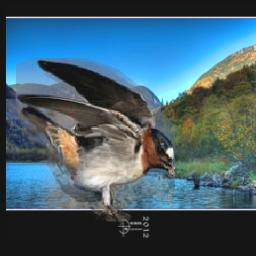Swallow: (17, 59, 176, 222)
